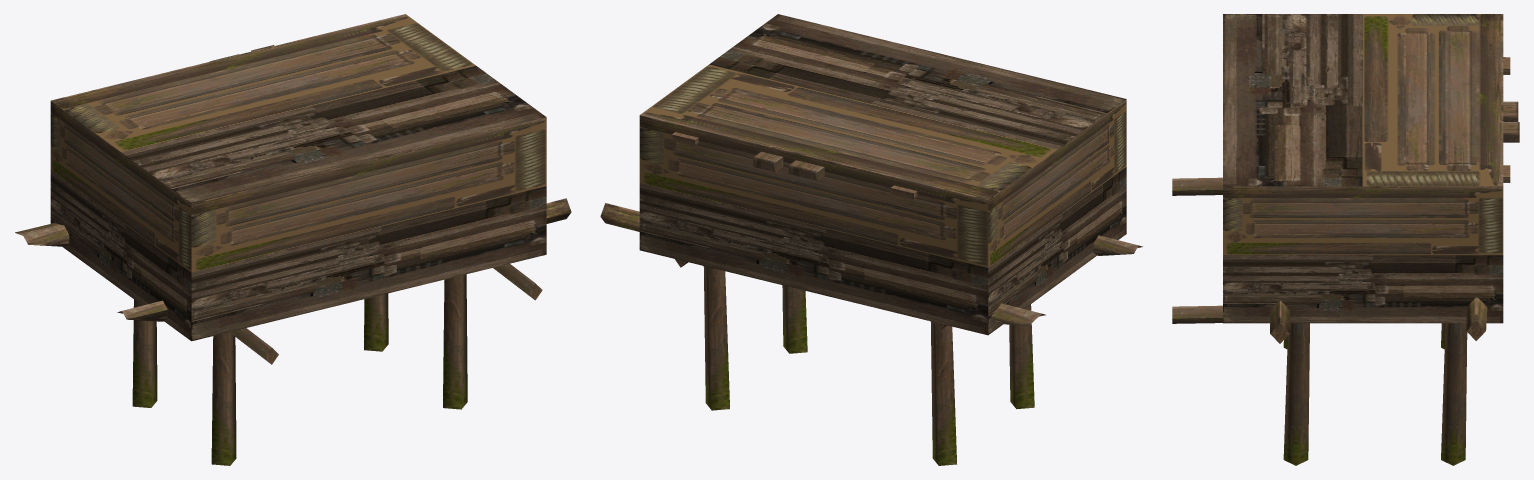
File: Scene_Build_XuanWuShan_KuangShanQiao_1.FBX
3 views of the same model, side by side, from view 1: azimuth 30°, elevation 25°; view 2: azimuth 150°, elevation 25°; view 3: azimuth 270°, elevation 25° (orthographic).
Parts seen in each view (by area): view 1: Scene_Build_XuanWuShan_KuangShanQiao_1_Xzm, Scene_Build_XuanWuShan_KuangShanQiao_1; view 2: Scene_Build_XuanWuShan_KuangShanQiao_1_Xzm, Scene_Build_XuanWuShan_KuangShanQiao_1; view 3: Scene_Build_XuanWuShan_KuangShanQiao_1_Xzm, Scene_Build_XuanWuShan_KuangShanQiao_1.
Boxes of the visible parts, x1,y1,x2,y2 form: Scene_Build_XuanWuShan_KuangShanQiao_1_Xzm: (50, 14, 546, 465); Scene_Build_XuanWuShan_KuangShanQiao_1: (15, 45, 571, 364); Scene_Build_XuanWuShan_KuangShanQiao_1_Xzm: (639, 14, 1126, 465); Scene_Build_XuanWuShan_KuangShanQiao_1: (600, 132, 1142, 330); Scene_Build_XuanWuShan_KuangShanQiao_1_Xzm: (1223, 14, 1503, 465); Scene_Build_XuanWuShan_KuangShanQiao_1: (1172, 57, 1519, 343).
Bounding box in the file's own units: 719 × 465 × 489.
